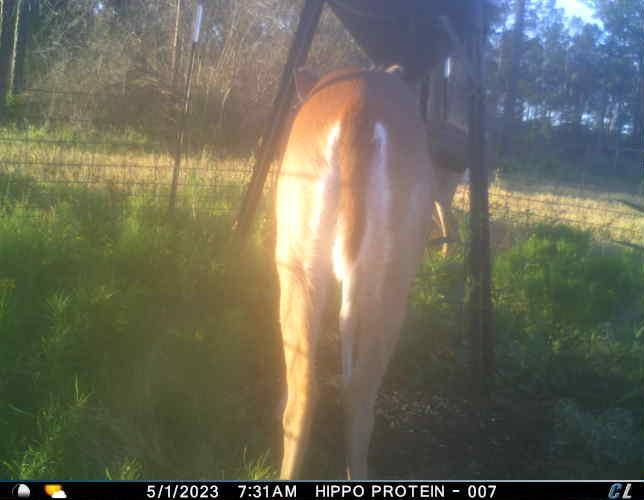Deer: (268, 60, 436, 481)
